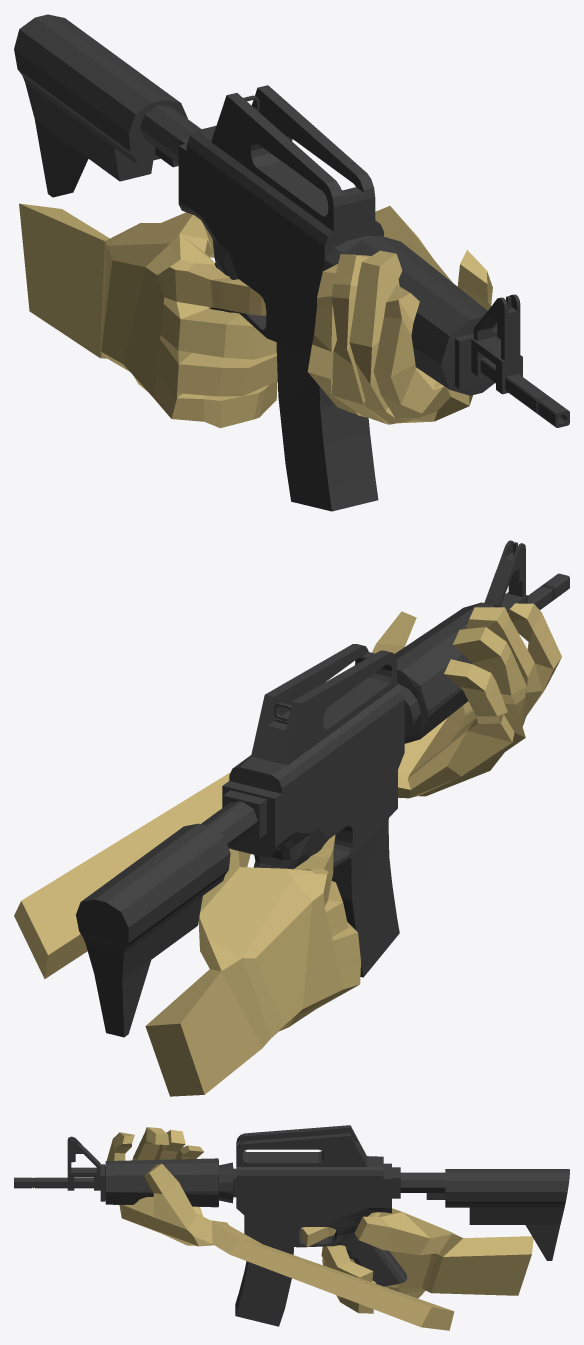
File: m4handgun.fbx
3 renders of one model, top to bottom at view 1: azimuth 30°, elevation 25°; view 2: azimuth 150°, elevation 25°; view 3: azimuth 270°, elevation 25°, orthographic. The views are drawn at different scales.
Parts seen in each view (by area): view 1: M4 Carbine, Hand.001, Hand.004; view 2: M4 Carbine, Hand.001, Hand.004; view 3: M4 Carbine, Hand.004, Hand.001.
Part boxes in pixels (<box>): M4 Carbine: <box>14,14,569,511</box>; Hand.001: <box>19,203,277,428</box>; Hand.004: <box>307,206,492,424</box>; M4 Carbine: <box>76,540,569,1037</box>; Hand.001: <box>145,834,360,1096</box>; Hand.004: <box>14,603,561,978</box>; M4 Carbine: <box>14,1125,569,1326</box>; Hand.004: <box>106,1127,454,1330</box>; Hand.001: <box>301,1208,533,1313</box>.
Size of the model in its own units: 499 by 507 by 1343.
